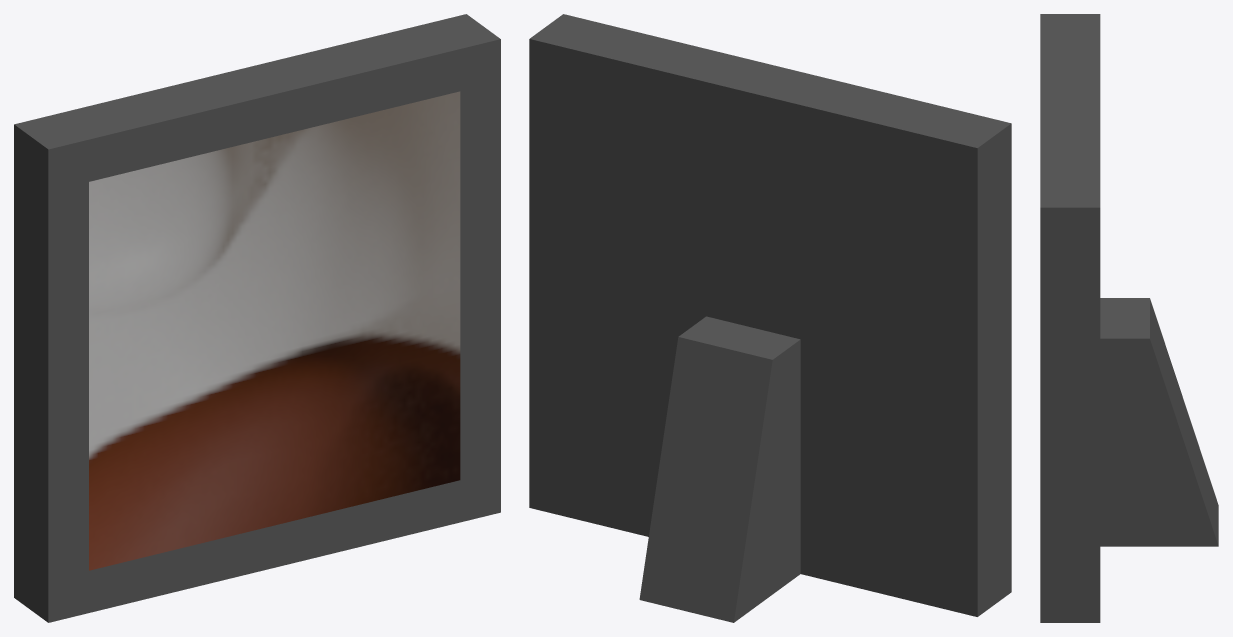
The model's file is Square.fbx.
3 renders of one model, left to right at view 1: azimuth 30°, elevation 25°; view 2: azimuth 150°, elevation 25°; view 3: azimuth 270°, elevation 25°, orthographic. The views are drawn at different scales.
Parts seen in each view (by area): view 1: Cube.226; view 2: Cube.226; view 3: Cube.226.
Boxes of the visible parts, bbox=[...] form: Cube.226: bbox=[14, 14, 500, 622]; Cube.226: bbox=[529, 14, 1011, 622]; Cube.226: bbox=[1040, 14, 1218, 622].
Bounding box in the file's own units: 200 × 200 × 77.95.
